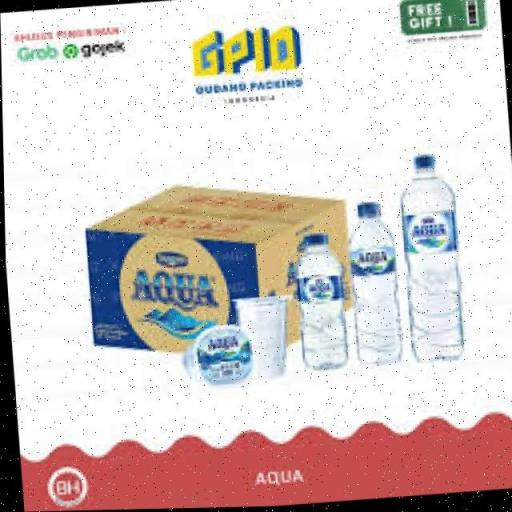plastic: (394, 150, 466, 369), (342, 198, 406, 372), (289, 230, 350, 376)
